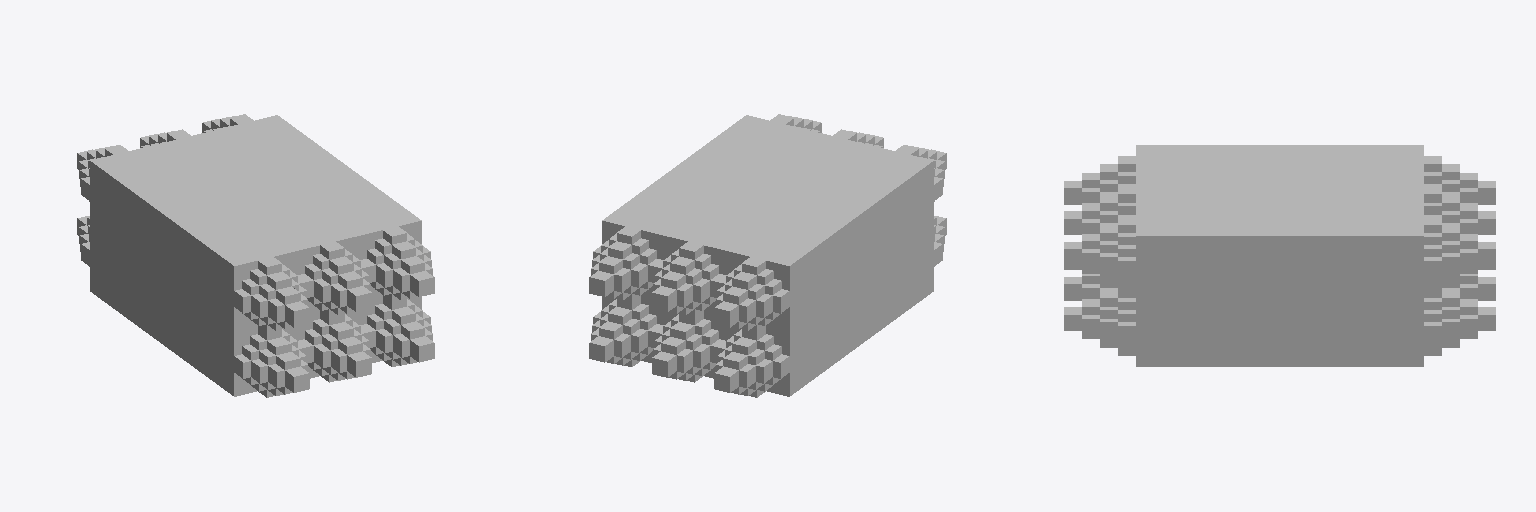
File: green_spiky_prism.obj
The picture shows the model from 3 angles: view 1: azimuth 30°, elevation 25°; view 2: azimuth 150°, elevation 25°; view 3: azimuth 270°, elevation 25°; orthographic projection.
Visible parts, largest first — view 1: object 1; view 2: object 1; view 3: object 1.
Boxes of the visible parts, x1=… form: object 1: x1=77, y1=114, x2=434, y2=397; object 1: x1=589, y1=114, x2=946, y2=397; object 1: x1=1064, y1=145, x2=1495, y2=366.
Size of the model in its own units: 2.4 by 1.6 by 4.8.